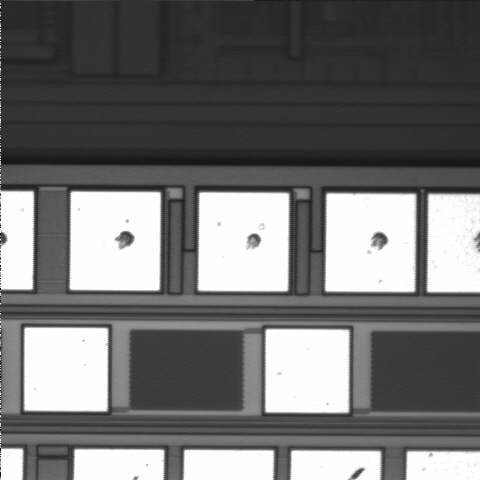pad: (198, 193, 289, 291), (70, 192, 160, 290), (326, 194, 416, 292), (24, 328, 108, 411), (266, 329, 349, 413)
